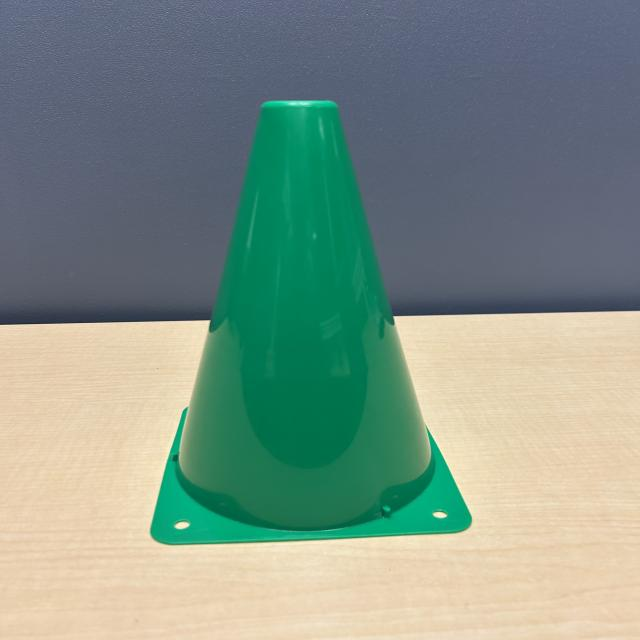green cone: (140, 93, 478, 546)
